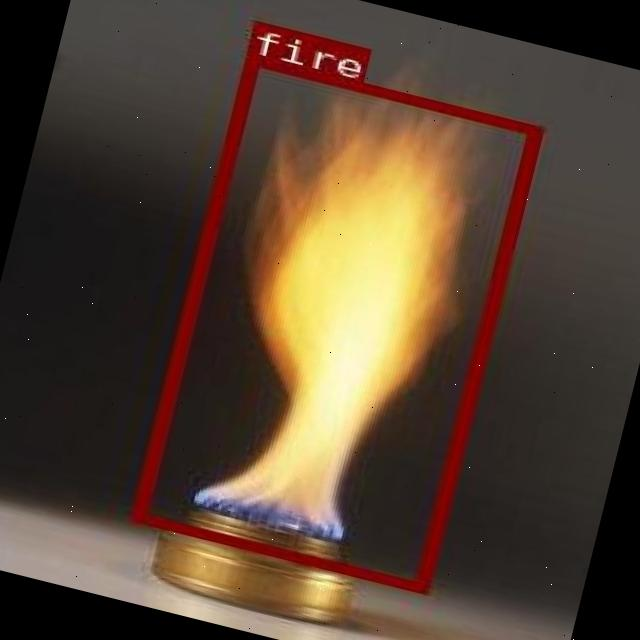fire: (130, 53, 540, 592)
